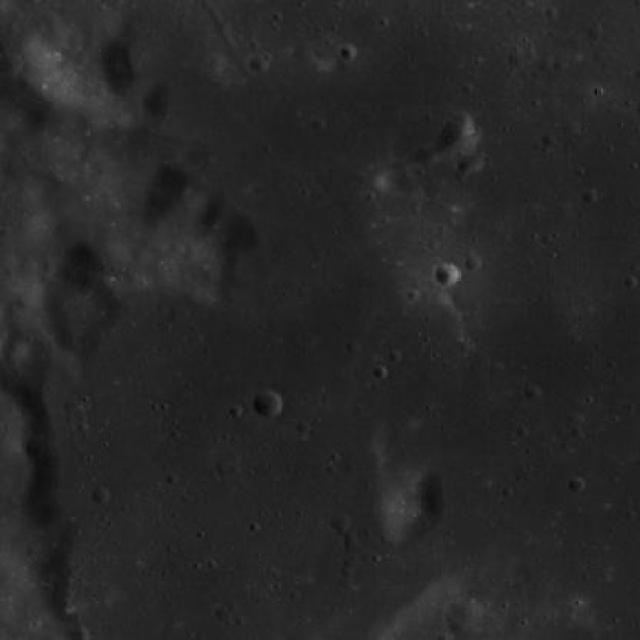crater: (444, 596, 478, 630), (254, 392, 286, 419), (12, 284, 40, 310), (436, 264, 462, 288), (214, 453, 240, 476), (0, 54, 25, 77), (460, 152, 485, 174), (332, 514, 354, 534), (64, 397, 84, 414), (208, 54, 226, 72), (250, 56, 268, 73), (558, 119, 576, 136), (569, 476, 586, 493), (94, 488, 111, 504), (339, 46, 356, 62), (466, 256, 483, 272), (0, 0, 2, 2)
